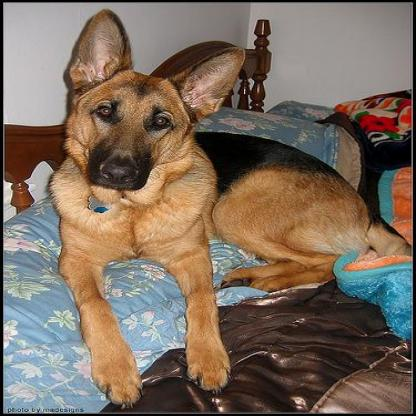dog: (57, 11, 406, 405)
